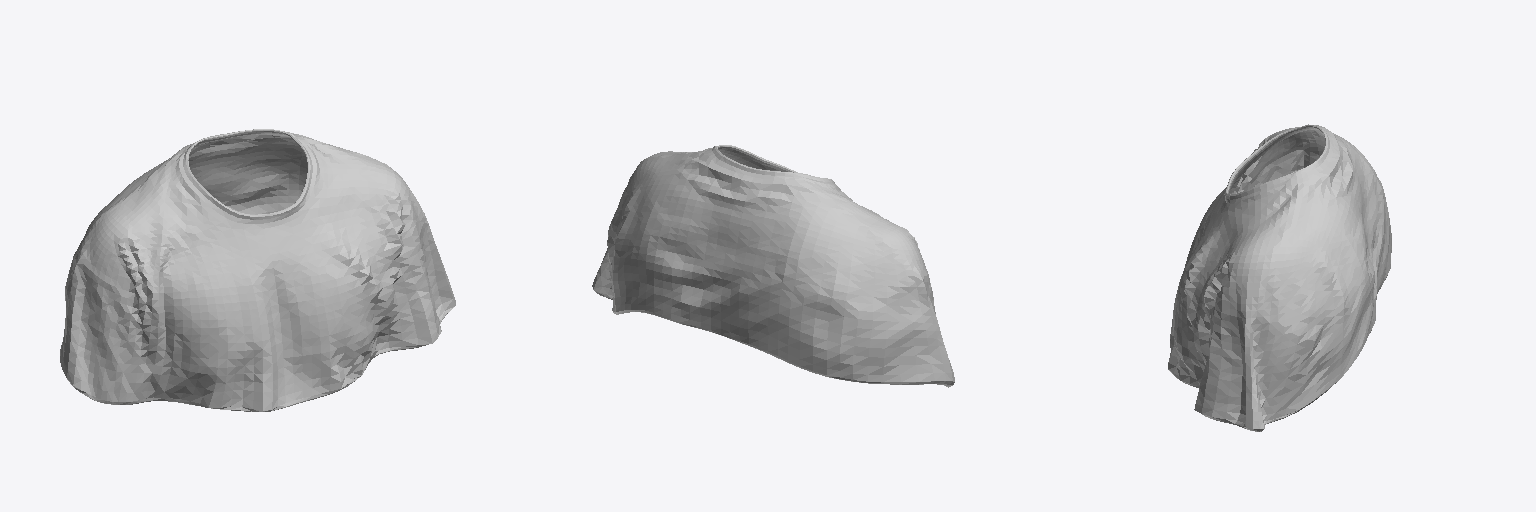
Rendered from Shirt.obj.
3 renders of one model, left to right at view 1: azimuth 30°, elevation 25°; view 2: azimuth 150°, elevation 25°; view 3: azimuth 270°, elevation 25°, orthographic.
Visible parts, largest first — view 1: Shirt FTI_Victor; view 2: Shirt FTI_Victor; view 3: Shirt FTI_Victor.
Part boxes in pixels (left/top/right/bottom): Shirt FTI_Victor: left=60, top=129, right=455, bottom=411; Shirt FTI_Victor: left=592, top=145, right=954, bottom=387; Shirt FTI_Victor: left=1168, top=124, right=1391, bottom=431.
Size of the model in its own units: 7.83 by 4.34 by 4.05.